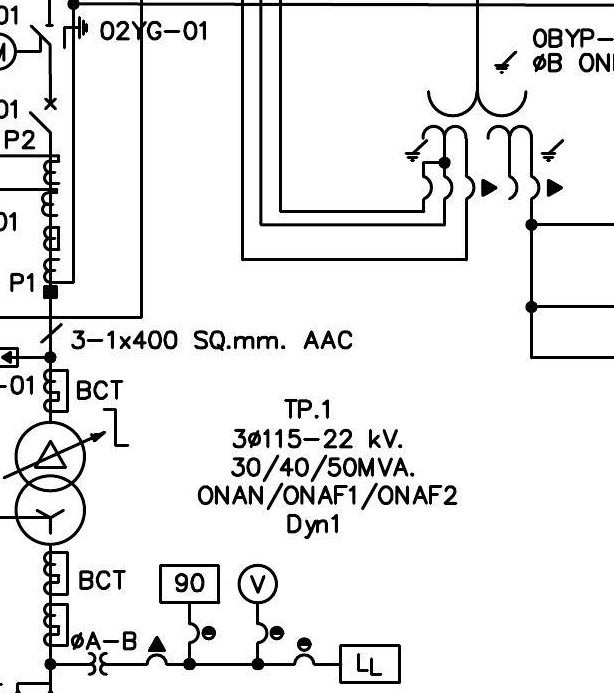11522_tx_dyn1: (14, 420, 87, 547)
115_breaker: (28, 97, 58, 134)
115_vt_1p: (403, 49, 565, 201)
LL: (338, 643, 402, 685)
v_m: (236, 563, 279, 605)
